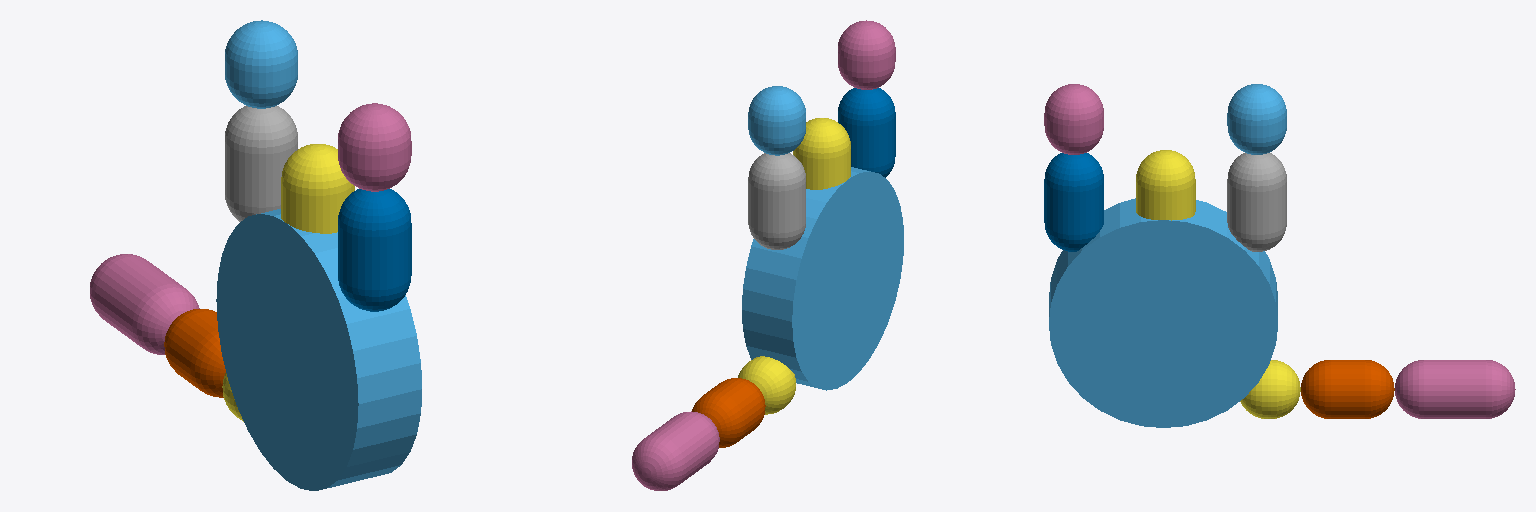
The robot description file, URDF, robot "DexterousHand":
<?xml version="1.0"?>
<robot name="DexterousHand">


    <link name="world"/>
    <joint name="world_to_palm" type="fixed">
        <parent link="world"/>
        <child link="palm"/>
        <origin xyz="0 0 0" rpy="0 0 0"/>
    </joint>
    <link name="palm">
        <inertial>
            <origin xyz="0 0 0.057" rpy="0 0 0"/>
            <mass value="0.30212892864"/>
            <inertia ixx="0.00049080844457568" ixy="0.0" ixz="0.0" iyy="0.00026746366246427523" iyz="0.0" izz="0.00026746366246427523"/>
        </inertial>
        <visual>
            <origin xyz="0 0 0.057" rpy="1.5708 0 1.5708"/>
            <geometry>
                <cylinder radius="0.057" length="0.0296"/>
            </geometry>
            <material name="default"/>
        </visual>
        <collision>
            <origin xyz="0 0 0.057" rpy="1.5708 0 1.5708"/>
            <geometry>
                <cylinder radius="0.057" length="0.0296"/>
            </geometry>
        </collision>
    </link>

    
    <joint name="thumb_joint1" type="revolute">
        <parent link="palm"/>
        <child link="thumb_base"/>
        <origin xyz="0.0029 0.0368 0.0157" rpy="-1.5708 -1.5708 0.0"/>
        <axis xyz="-1 0 0"/>
        <limit lower="-0.349" upper="2.094" effort="1.0" velocity="1.0"/>
    </joint>

    <link name="thumb_base"></link>

    <joint name="thumb_joint2" type="revolute">
        <parent link="thumb_base"/>
        <child link="thumb_proximal"/>
        <origin xyz="0.0 0.0 0.0" rpy="0.0 0.0 0.0"/>
        <axis xyz="0 0 1"/>
        <limit lower="-0.47" upper="2.443" effort="1.0" velocity="1.0"/>
    </joint>

    <link name="thumb_proximal">
        <inertial>
            <origin xyz="0 0 0.01565" rpy="0 0 0"/>
            <mass value="0.021538658803200002"/>
            <inertia ixx="2.9378910096388167e-06" ixy="0.0" ixz="0.0" 
            iyy="2.9378910096388167e-06" iyz="0.0" izz="2.358913912126464e-06"/>
        </inertial>
        <visual>
            <origin xyz="0 0 0.01565" rpy="0 0 0"/>
            <geometry>
                <cylinder radius="0.0148" length="0.0017000000000000001"/>
            </geometry>
            <material name="default"/>
        </visual>
        <visual>
            <origin xyz="0 0 0.0148" rpy="0 0 0"/>
            <geometry>
                <sphere radius="0.0148"/>
            </geometry>
            <material name="default"/>
        </visual>
        <visual>
            <origin xyz="0 0 0.0165" rpy="0 0 0"/>
            <geometry>
                <sphere radius="0.0148"/>
            </geometry>
            <material name="default"/>
        </visual>
        <collision>
            <origin xyz="0 0 0.01565" rpy="0 0 0"/>
            <geometry>
                <cylinder radius="0.0148" length="0.0017000000000000001"/>
            </geometry>
        </collision>
        <collision>
            <origin xyz="0 0 0.0148" rpy="0 0 0"/>
            <geometry>
                <sphere radius="0.0148"/>
            </geometry>
        </collision>
        <collision>
            <origin xyz="0 0 0.0165" rpy="0 0 0"/>
            <geometry>
                <sphere radius="0.0148"/>
            </geometry>
        </collision>
    </link>

    <joint name="thumb_joint3" type="revolute">
        <parent link="thumb_proximal"/>
        <child link="thumb_knuckle"/>
        <origin xyz="0.0 0.0 0.0313" rpy="0.0 0.0 0.0"/>
        <axis xyz="1 0 0"/>
        <limit lower="0.0" upper="0.0" effort="1.0" velocity="1.0"/>
    </joint>

    <link name="thumb_knuckle"></link>

    <joint name="thumb_joint4" type="revolute">
        <parent link="thumb_knuckle"/>
        <child link="thumb_middle"/>
        <origin xyz="0 0 0" rpy="0 0 0"/> 
        <axis xyz="0 1 0"/>
        <limit lower="-1.2" upper="1.9" effort="1.0" velocity="1.0"/>
    </joint>

    <link name="thumb_middle">
        <inertial>
            <origin xyz="0 0 0.0233" rpy="0 0 0"/>
            <mass value="0.032067140582400004"/>
            <inertia ixx="7.5589732685519385e-06" ixy="0.0" ixz="0.0" 
            iyy="7.5589732685519385e-06" iyz="0.0" izz="3.5119932365844485e-06"/>
        </inertial>
        <visual>
            <origin xyz="0 0 0.0233" rpy="0 0 0"/>
            <geometry>
                <cylinder radius="0.0148" length="0.017"/>
            </geometry>
            <material name="default"/>
        </visual>
        <visual>
            <origin xyz="0 0 0.0148" rpy="0 0 0"/>
            <geometry>
                <sphere radius="0.0148"/>
            </geometry>
            <material name="default"/>
        </visual>
        <visual>
            <origin xyz="0 0 0.0318" rpy="0 0 0"/>
            <geometry>
                <sphere radius="0.0148"/>
            </geometry>
            <material name="default"/>
        </visual>
        <collision>
            <origin xyz="0 0 0.0233" rpy="0 0 0"/>
            <geometry>
                <cylinder radius="0.0148" length="0.017"/>
            </geometry>
        </collision>
        <collision>
            <origin xyz="0 0 0.0148" rpy="0 0 0"/>
            <geometry>
                <sphere radius="0.0148"/>
            </geometry>
        </collision>
        <collision>
            <origin xyz="0 0 0.0318" rpy="0 0 0"/>
            <geometry>
                <sphere radius="0.0148"/>
            </geometry>
        </collision>
    </link>

    <joint name="thumb_joint5" type="revolute">
        <parent link="thumb_middle"/>
        <child link="thumb_distal"/>
        <origin xyz="0 0 0.0466" rpy="0 0 0"/> 
        <axis xyz="0 1 0"/>
        <limit lower="-1.34" upper="1.88" effort="1.0" velocity="1.0"/>
    </joint>

    <link name="thumb_distal">
        <inertial>
            <origin xyz="0 0 0.03" rpy="0 0 0"/>
            <mass value="0.04128816384"/>
            <inertia ixx="1.46473890038784e-05" ixy="0.0" ixz="0.0" 
            iyy="1.46473890038784e-05" iyz="0.0" izz="4.521879703756801e-06"/>
        </inertial>
        <visual>
            <origin xyz="0 0 0.03" rpy="0 0 0"/>
            <geometry>
                <cylinder radius="0.0148" length="0.030399999999999996"/>
            </geometry>
            <material name="default"/>
        </visual>
        <visual>
            <origin xyz="0 0 0.0148" rpy="0 0 0"/>
            <geometry>
                <sphere radius="0.0148"/>
            </geometry>
            <material name="default"/>
        </visual>
        <visual>
            <origin xyz="0 0 0.0452" rpy="0 0 0"/>
            <geometry>
                <sphere radius="0.0148"/>
            </geometry>
            <material name="default"/>
        </visual>
        <collision>
            <origin xyz="0 0 0.03" rpy="0 0 0"/>
            <geometry>
                <cylinder radius="0.0148" length="0.030399999999999996"/>
            </geometry>
        </collision>
        <collision>
            <origin xyz="0 0 0.0148" rpy="0 0 0"/>
            <geometry>
                <sphere radius="0.0148"/>
            </geometry>
        </collision>
        <collision>
            <origin xyz="0 0 0.0452" rpy="0 0 0"/>
            <geometry>
                <sphere radius="0.0148"/>
            </geometry>
        </collision>
    </link>

    
    <joint name="index_joint1" type="revolute">
        <parent link="palm"/>
        <child link="index_proximal"/>
        <origin xyz="0.0 0.0465 0.091" rpy="0.0 0.0 0.0"/>
        <axis xyz="0 1 0"/>
        <limit lower="-0.314" upper="2.23" effort="1.0" velocity="1.0"/>
    </joint>

    <link name="index_proximal">
        <inertial>
            <origin xyz="0 0 0.02655" rpy="0 0 0"/>
            <mass value="0.036540024998400006"/>
            <inertia ixx="1.058665009272394e-05" ixy="0.0" ixz="0.0" 
            iyy="1.058665009272394e-05" iyz="0.0" izz="4.001863537824769e-06"/>
        </inertial>
        <visual>
            <origin xyz="0 0 0.02655" rpy="0 0 0"/>
            <geometry>
                <cylinder radius="0.0148" length="0.0235"/>
            </geometry>
            <material name="default"/>
        </visual>
        <visual>
            <origin xyz="0 0 0.0148" rpy="0 0 0"/>
            <geometry>
                <sphere radius="0.0148"/>
            </geometry>
            <material name="default"/>
        </visual>
        <visual>
            <origin xyz="0 0 0.0383" rpy="0 0 0"/>
            <geometry>
                <sphere radius="0.0148"/>
            </geometry>
            <material name="default"/>
        </visual>
        <collision>
            <origin xyz="0 0 0.02655" rpy="0 0 0"/>
            <geometry>
                <cylinder radius="0.0148" length="0.0235"/>
            </geometry>
        </collision>
        <collision>
            <origin xyz="0 0 0.0148" rpy="0 0 0"/>
            <geometry>
                <sphere radius="0.0148"/>
            </geometry>
        </collision>
        <collision>
            <origin xyz="0 0 0.0383" rpy="0 0 0"/>
            <geometry>
                <sphere radius="0.0148"/>
            </geometry>
        </collision>
    </link>

    <joint name="index_joint2" type="revolute">
        <parent link="index_proximal"/>
        <child link="index_dummy"/>
        <origin xyz="0.0 0.0 0.038" rpy="0.0 0.0 0.0"/>
        <axis xyz="1 0 0"/>
        <limit lower="-1.047" upper="1.047" effort="1.0" velocity="1.0"/>
    </joint>

    <link name="index_dummy"></link>

    <joint name="index_joint3" type="revolute">
        <parent link="index_dummy"/>
        <child link="index_middle"/>
        <origin xyz="0 0 0.015100000000000002" rpy="0 0 0"/>
        <axis xyz="0 1 0"/>
        <limit lower="-0.506" upper="1.885" effort="1.0" velocity="1.0"/>
    </joint>

    <link name="index_middle">
        <inertial>
            <origin xyz="0 0 0.01805" rpy="0 0 0"/>
            <mass value="0.0248417119104"/>
            <inertia ixx="4.058162759109537e-06" ixy="0.0" ixz="0.0" 
            iyy="4.058162759109537e-06" iyz="0.0" izz="2.7206642884270085e-06"/>
        </inertial>
        <visual>
            <origin xyz="0 0 0.01805" rpy="0 0 0"/>
            <geometry>
                <cylinder radius="0.0148" length="0.006499999999999999"/>
            </geometry>
            <material name="default"/>
        </visual>
        <visual>
            <origin xyz="0 0 0.0148" rpy="0 0 0"/>
            <geometry>
                <sphere radius="0.0148"/>
            </geometry>
            <material name="default"/>
        </visual>
        <visual>
            <origin xyz="0 0 0.0213" rpy="0 0 0"/>
            <geometry>
                <sphere radius="0.0148"/>
            </geometry>
            <material name="default"/>
        </visual>
        <collision>
            <origin xyz="0 0 0.01805" rpy="0 0 0"/>
            <geometry>
                <cylinder radius="0.0148" length="0.006499999999999999"/>
            </geometry>
        </collision>
        <collision>
            <origin xyz="0 0 0.0148" rpy="0 0 0"/>
            <geometry>
                <sphere radius="0.0148"/>
            </geometry>
        </collision>
        <collision>
            <origin xyz="0 0 0.0213" rpy="0 0 0"/>
            <geometry>
                <sphere radius="0.0148"/>
            </geometry>
        </collision>
    </link>

    <joint name="index_joint4" type="revolute">
        <parent link="index_middle"/>
        <child link="index_distal"/>
        <origin xyz="0 0 0.0361" rpy="0 0 0"/> 
        <axis xyz="0 1 0"/>
        <limit lower="0.0" upper="0.0" effort="1.0" velocity="1.0"/>
    </joint>

    <link name="index_distal">
    </link>

    
    <joint name="middle_joint1" type="revolute">
        <parent link="palm"/>
        <child link="middle_proximal"/>
        <origin xyz="0.0 0.0011 0.091" rpy="0.0 0.0 0.0"/>
        <axis xyz="0 1 0"/>
        <limit lower="-0.314" upper="2.23" effort="1.0" velocity="1.0"/>
    </joint>

    <link name="middle_proximal">
        <inertial>
            <origin xyz="0 0 0.02655" rpy="0 0 0"/>
            <mass value="0.036540024998400006"/>
            <inertia ixx="1.058665009272394e-05" ixy="0.0" ixz="0.0" 
            iyy="1.058665009272394e-05" iyz="0.0" izz="4.001863537824769e-06"/>
        </inertial>
        <visual>
            <origin xyz="0 0 0.02655" rpy="0 0 0"/>
            <geometry>
                <cylinder radius="0.0148" length="0.0235"/>
            </geometry>
            <material name="default"/>
        </visual>
        <visual>
            <origin xyz="0 0 0.0148" rpy="0 0 0"/>
            <geometry>
                <sphere radius="0.0148"/>
            </geometry>
            <material name="default"/>
        </visual>
        <visual>
            <origin xyz="0 0 0.0383" rpy="0 0 0"/>
            <geometry>
                <sphere radius="0.0148"/>
            </geometry>
            <material name="default"/>
        </visual>
        <collision>
            <origin xyz="0 0 0.02655" rpy="0 0 0"/>
            <geometry>
                <cylinder radius="0.0148" length="0.0235"/>
            </geometry>
        </collision>
        <collision>
            <origin xyz="0 0 0.0148" rpy="0 0 0"/>
            <geometry>
                <sphere radius="0.0148"/>
            </geometry>
        </collision>
        <collision>
            <origin xyz="0 0 0.0383" rpy="0 0 0"/>
            <geometry>
                <sphere radius="0.0148"/>
            </geometry>
        </collision>
    </link>

    <joint name="middle_joint2" type="revolute">
        <parent link="middle_proximal"/>
        <child link="middle_dummy"/>
        <origin xyz="0.0 0.0 0.038" rpy="0.0 0.0 0.0"/>
        <axis xyz="0 1 0"/>
        <limit lower="0.0" upper="0.0" effort="1.0" velocity="1.0"/>
    </joint>

    <link name="middle_dummy"></link>

    <joint name="middle_joint3" type="revolute">
        <parent link="middle_dummy"/>
        <child link="middle_middle"/>
        <origin xyz="0 0 0.015100000000000002" rpy="0 0 0"/>
        <axis xyz="0 1 0"/>
        <limit lower="0.0" upper="0.0" effort="1.0" velocity="1.0"/>
    </joint>

    <link name="middle_middle">
    </link>

    <joint name="middle_joint4" type="revolute">
        <parent link="middle_middle"/>
        <child link="middle_distal"/>
        <origin xyz="0 0 0" rpy="0 0 0"/> 
        <axis xyz="0 1 0"/>
        <limit lower="0.0" upper="0.0" effort="1.0" velocity="1.0"/>
    </joint>

    <link name="middle_distal">
    </link>

    
    <joint name="ring_joint1" type="revolute">
        <parent link="palm"/>
        <child link="ring_proximal"/>
        <origin xyz="0.0 0.0 0.0" rpy="0.0 0.0 0.0"/>
        <axis xyz="1 0 0"/>
        <limit lower="0.0" upper="0.0" effort="1.0" velocity="1.0"/>
    </joint>

    <link name="ring_proximal">
    </link>

    <joint name="ring_joint2" type="revolute">
        <parent link="ring_proximal"/>
        <child link="ring_dummy"/>
        <origin xyz="0.0 0.0 0.0" rpy="0.0 0.0 0.0"/>
        <axis xyz="0 1 0"/>
        <limit lower="0.0" upper="0.0" effort="1.0" velocity="1.0"/>
    </joint>

    <link name="ring_dummy"></link>

    <joint name="ring_joint3" type="revolute">
        <parent link="ring_dummy"/>
        <child link="ring_middle"/>
        <origin xyz="0 0 0" rpy="0 0 0"/>
        <axis xyz="0 1 0"/>
        <limit lower="0.0" upper="0.0" effort="1.0" velocity="1.0"/>
    </joint>

    <link name="ring_middle">
    </link>

    <joint name="ring_joint4" type="revolute">
        <parent link="ring_middle"/>
        <child link="ring_distal"/>
        <origin xyz="0 0 0" rpy="0 0 0"/> 
        <axis xyz="0 1 0"/>
        <limit lower="0.0" upper="0.0" effort="1.0" velocity="1.0"/>
    </joint>

    <link name="ring_distal">
    </link>

    
    <joint name="little_joint0" type="revolute">
        <parent link="palm"/>
        <child link="little_base"/>
        <origin xyz="0.0 0.0 0.0" rpy="0.0 0.0 0.0"/>
        <axis xyz="0 1 0"/>
        <limit lower="0.0" upper="0.0" effort="1.0" velocity="1.0"/>
    </joint>

    <link name="little_base"></link>

    <joint name="little_joint1" type="revolute">
        <parent link="little_base"/>
        <child link="little_proximal"/>
        <origin xyz="0.0 -0.0443 0.091" rpy="-0.0 -0.0 -0.0"/>
        <axis xyz="0 1 0"/>
        <limit lower="-0.314" upper="2.23" effort="1.0" velocity="1.0"/>
    </joint>

    <link name="little_proximal">
        <inertial>
            <origin xyz="0 0 0.02655" rpy="0 0 0"/>
            <mass value="0.036540024998400006"/>
            <inertia ixx="1.058665009272394e-05" ixy="0.0" ixz="0.0" 
            iyy="1.058665009272394e-05" iyz="0.0" izz="4.001863537824769e-06"/>
        </inertial>
        <visual>
            <origin xyz="0 0 0.02655" rpy="0 0 0"/>
            <geometry>
                <cylinder radius="0.0148" length="0.0235"/>
            </geometry>
            <material name="default"/>
        </visual>
        <visual>
            <origin xyz="0 0 0.0148" rpy="0 0 0"/>
            <geometry>
                <sphere radius="0.0148"/>
            </geometry>
            <material name="default"/>
        </visual>
        <visual>
            <origin xyz="0 0 0.0383" rpy="0 0 0"/>
            <geometry>
                <sphere radius="0.0148"/>
            </geometry>
            <material name="default"/>
        </visual>
        <collision>
            <origin xyz="0 0 0.02655" rpy="0 0 0"/>
            <geometry>
                <cylinder radius="0.0148" length="0.0235"/>
            </geometry>
        </collision>
        <collision>
            <origin xyz="0 0 0.0148" rpy="0 0 0"/>
            <geometry>
                <sphere radius="0.0148"/>
            </geometry>
        </collision>
        <collision>
            <origin xyz="0 0 0.0383" rpy="0 0 0"/>
            <geometry>
                <sphere radius="0.0148"/>
            </geometry>
        </collision>
    </link>

    <joint name="little_joint2" type="revolute">
        <parent link="little_proximal"/>
        <child link="little_dummy"/>
        <origin xyz="0.0 0.0 0.038" rpy="0.0 0.0 0.0"/>
        <axis xyz="1 0 0"/>
        <limit lower="-1.047" upper="1.047" effort="1.0" velocity="1.0"/>
    </joint>

    <link name="little_dummy"></link>

    <joint name="little_joint3" type="revolute">
        <parent link="little_dummy"/>
        <child link="little_middle"/>
        <origin xyz="0 0 0.015100000000000002" rpy="0 0 0"/>
        <axis xyz="0 1 0"/>
        <limit lower="-0.506" upper="1.885" effort="1.0" velocity="1.0"/>
    </joint>

    <link name="little_middle">
        <inertial>
            <origin xyz="0 0 0.01805" rpy="0 0 0"/>
            <mass value="0.0248417119104"/>
            <inertia ixx="4.058162759109537e-06" ixy="0.0" ixz="0.0" 
            iyy="4.058162759109537e-06" iyz="0.0" izz="2.7206642884270085e-06"/>
        </inertial>
        <visual>
            <origin xyz="0 0 0.01805" rpy="0 0 0"/>
            <geometry>
                <cylinder radius="0.0148" length="0.006499999999999999"/>
            </geometry>
            <material name="default"/>
        </visual>
        <visual>
            <origin xyz="0 0 0.0148" rpy="0 0 0"/>
            <geometry>
                <sphere radius="0.0148"/>
            </geometry>
            <material name="default"/>
        </visual>
        <visual>
            <origin xyz="0 0 0.0213" rpy="0 0 0"/>
            <geometry>
                <sphere radius="0.0148"/>
            </geometry>
            <material name="default"/>
        </visual>
        <collision>
            <origin xyz="0 0 0.01805" rpy="0 0 0"/>
            <geometry>
                <cylinder radius="0.0148" length="0.006499999999999999"/>
            </geometry>
        </collision>
        <collision>
            <origin xyz="0 0 0.0148" rpy="0 0 0"/>
            <geometry>
                <sphere radius="0.0148"/>
            </geometry>
        </collision>
        <collision>
            <origin xyz="0 0 0.0213" rpy="0 0 0"/>
            <geometry>
                <sphere radius="0.0148"/>
            </geometry>
        </collision>
    </link>

    <joint name="little_joint4" type="revolute">
        <parent link="little_middle"/>
        <child link="little_distal"/>
        <origin xyz="0 0 0.0361" rpy="0 0 0"/>
        <axis xyz="0 1 0"/>
        <limit lower="0.0" upper="0.0" effort="1.0" velocity="1.0"/>
    </joint>

    <link name="little_distal">
    </link>

</robot>

--- Render facts (derived) ---
Views: 3 orthographic renders of the robot side by side, from view 1: azimuth 30°, elevation 25°; view 2: azimuth 150°, elevation 25°; view 3: azimuth 270°, elevation 25°.
Model DexterousHand with 24 links and 23 joints (22 revolute, 1 fixed), rooted at world, posed every joint at zero.
Links seen in each view (by area): view 1: palm, little_proximal, thumb_distal, index_proximal, little_middle, index_middle, middle_proximal, thumb_middle; view 2: palm, index_proximal, thumb_distal, little_proximal, index_middle, little_middle, thumb_middle, middle_proximal, thumb_proximal; view 3: palm, thumb_distal, index_proximal, little_proximal, thumb_middle, middle_proximal, little_middle, index_middle, thumb_proximal.
Boxes of the visible links, bbox=[...] form: palm: bbox=[216, 209, 421, 490]; little_proximal: bbox=[338, 189, 411, 311]; thumb_distal: bbox=[90, 254, 199, 354]; index_proximal: bbox=[225, 106, 297, 221]; little_middle: bbox=[338, 103, 411, 191]; index_middle: bbox=[225, 20, 297, 108]; middle_proximal: bbox=[281, 144, 354, 233]; thumb_middle: bbox=[164, 309, 225, 397]; palm: bbox=[742, 167, 903, 390]; index_proximal: bbox=[748, 153, 805, 249]; thumb_distal: bbox=[632, 411, 719, 490]; little_proximal: bbox=[838, 88, 895, 177]; index_middle: bbox=[748, 86, 805, 155]; little_middle: bbox=[838, 20, 895, 89]; thumb_middle: bbox=[692, 378, 765, 447]; middle_proximal: bbox=[793, 118, 850, 189]; thumb_proximal: bbox=[738, 356, 795, 414]; palm: bbox=[1049, 198, 1277, 427]; thumb_distal: bbox=[1395, 360, 1515, 418]; index_proximal: bbox=[1227, 153, 1286, 251]; little_proximal: bbox=[1044, 153, 1103, 251]; thumb_middle: bbox=[1301, 360, 1394, 418]; middle_proximal: bbox=[1136, 150, 1195, 220]; little_middle: bbox=[1044, 84, 1103, 154]; index_middle: bbox=[1227, 84, 1286, 154]; thumb_proximal: bbox=[1240, 360, 1300, 418].
Size in the robot's own frame: 0.0325 by 0.2338 by 0.1802 metres.
Geometry: primitives only (box / cylinder / sphere), no mesh files.
